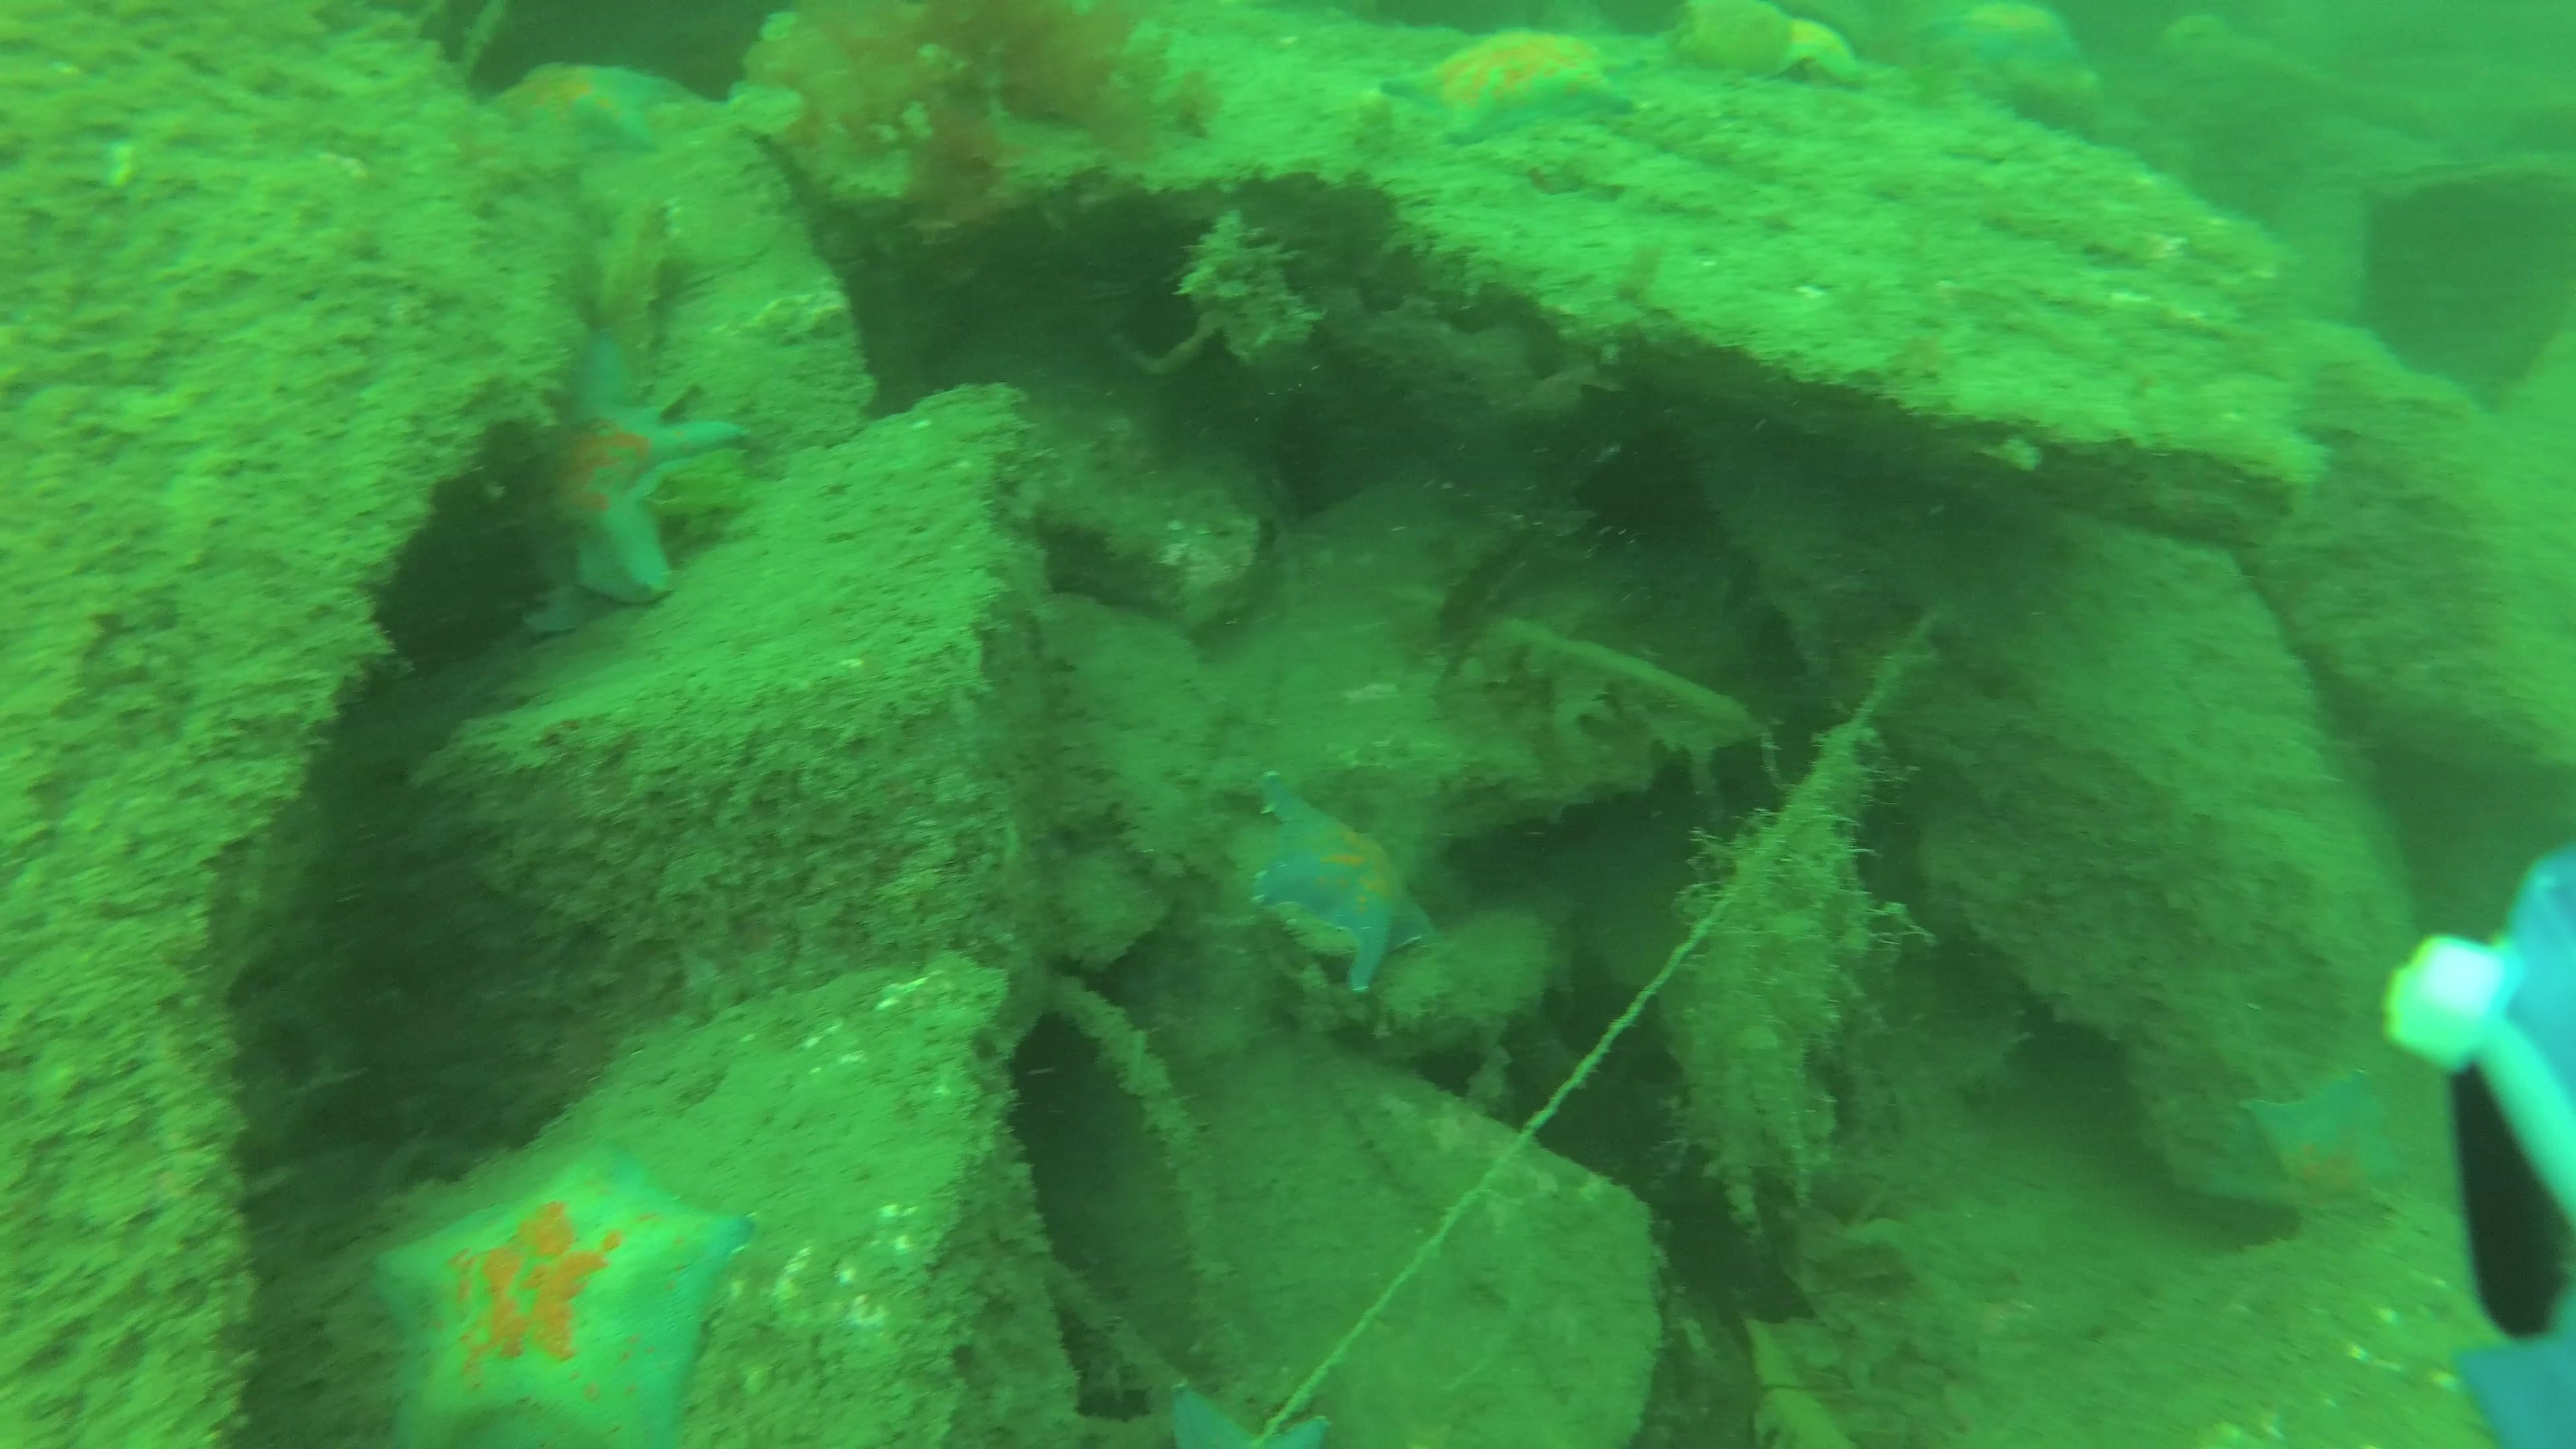starfish: (377, 1164, 743, 1445), (545, 341, 752, 591), (1233, 793, 1433, 987), (1918, 0, 2157, 127), (1387, 30, 1633, 133), (2235, 1065, 2401, 1212), (487, 62, 692, 165), (1162, 1385, 1336, 1449), (1776, 12, 1868, 87)
